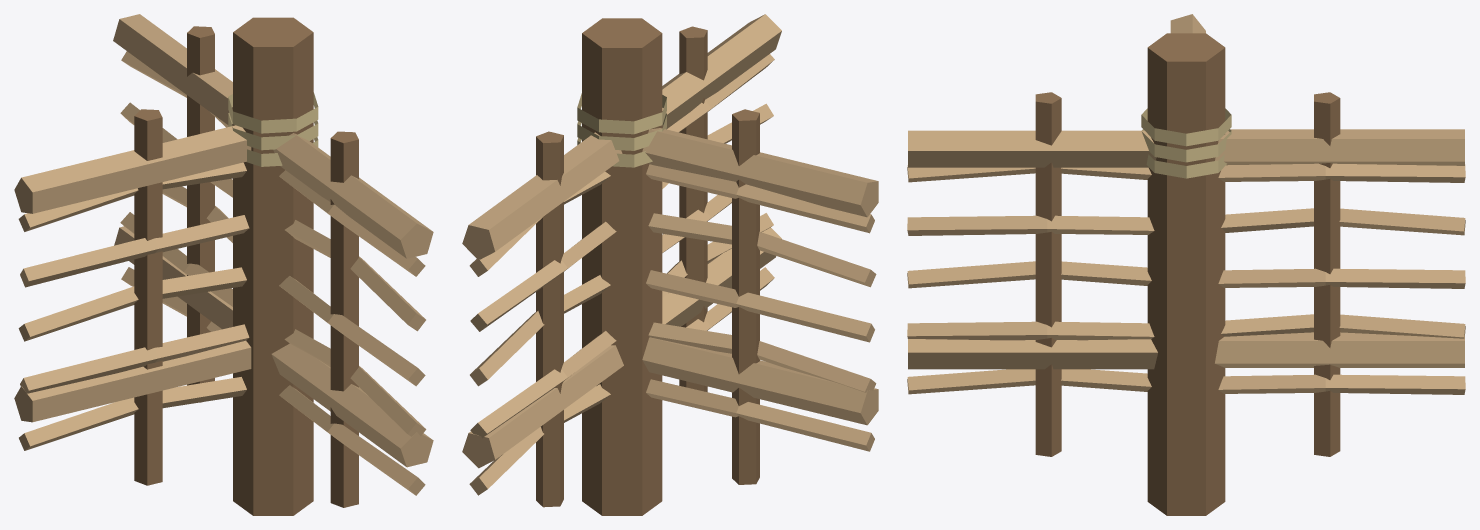
The model's file is pen_fence_0d.glb.
3 renders of one model, left to right at view 1: azimuth 30°, elevation 25°; view 2: azimuth 150°, elevation 25°; view 3: azimuth 270°, elevation 25°, orthographic. The views are drawn at different scales.
Visible parts, largest first — view 1: pen_fence_0d; view 2: pen_fence_0d; view 3: pen_fence_0d.
Boxes of the visible parts, box(x1,y1,x2,y2) form: pen_fence_0d: box(14, 14, 433, 515); pen_fence_0d: box(462, 14, 878, 515); pen_fence_0d: box(907, 14, 1465, 515).
Size of the model in its own units: 0.5823 by 0.9 by 1.
